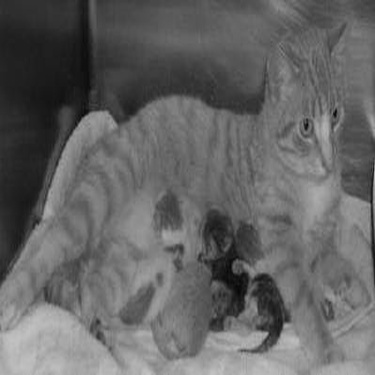cat: (4, 18, 359, 351)
